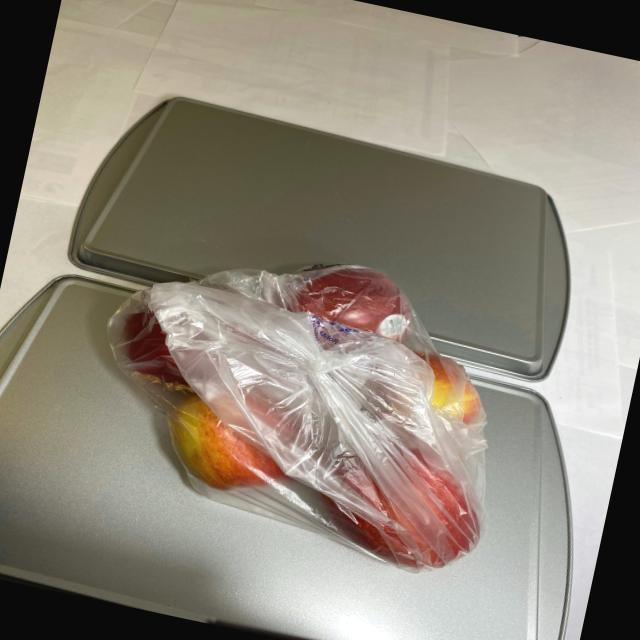apple: (68, 213, 530, 584)
